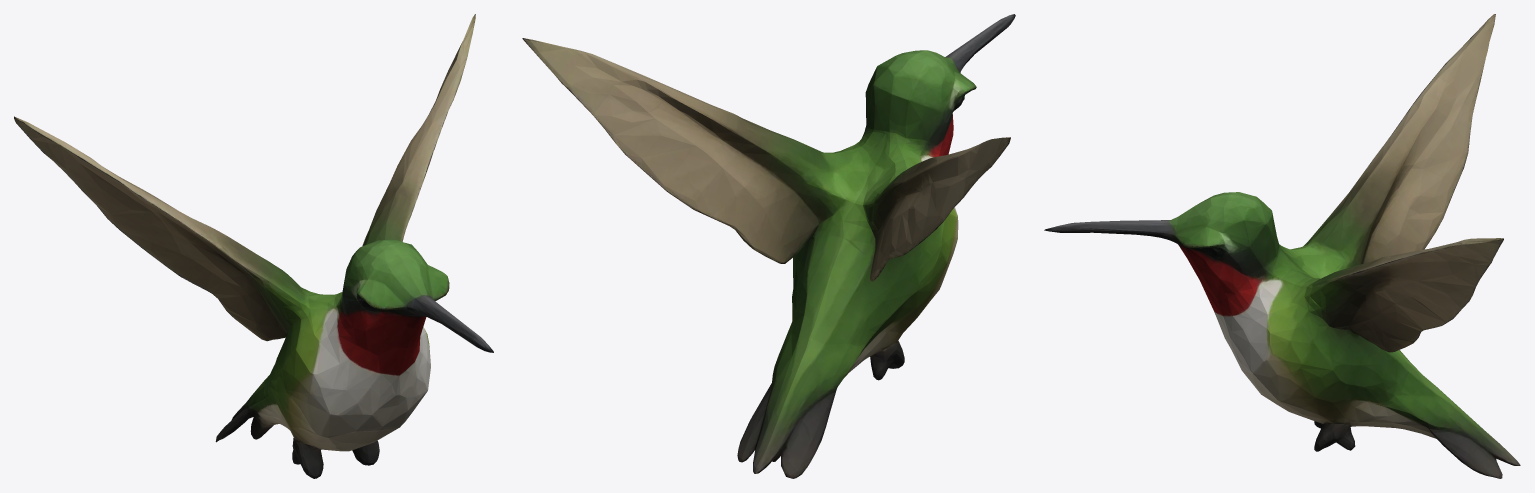
Rendered from ruby_throated_hummingbird.glb.
3 renders of one model, left to right at view 1: azimuth 30°, elevation 25°; view 2: azimuth 150°, elevation 25°; view 3: azimuth 270°, elevation 25°, orthographic. The views are drawn at different scales.
Visible parts, largest first — view 1: world; view 2: world; view 3: world.
Boxes of the visible parts, x1,y1,x2,y2 form: world: (14,14,493,478); world: (522,14,1015,478); world: (1044,14,1520,478).
Size of the model in its own units: 0.9968 by 0.7695 by 0.9479.
Materials: 1 (1 with a texture image).
